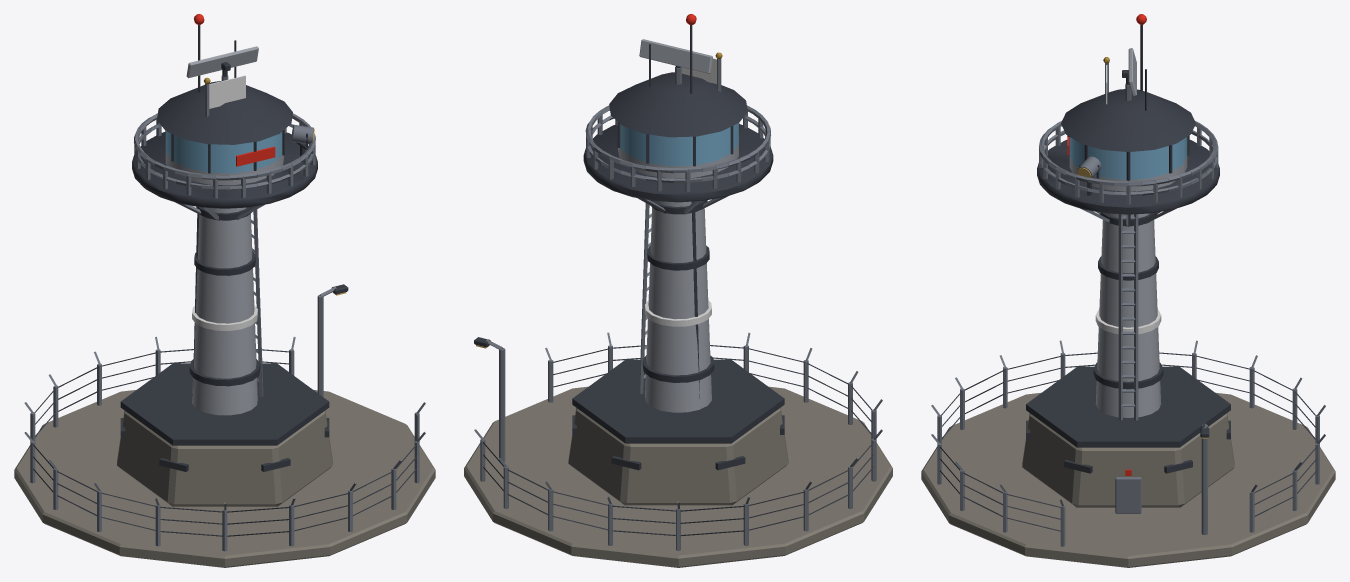
File: guard_tower.fbx
3 views of the same model, side by side, from view 1: azimuth 30°, elevation 25°; view 2: azimuth 150°, elevation 25°; view 3: azimuth 270°, elevation 25° (orthographic). The views are drawn at different scales.
Parts seen in each view (by area): view 1: guard_tower, guard_tower__radar; view 2: guard_tower, guard_tower__radar; view 3: guard_tower.
Part boxes in pixels (x1,y1,x2,y2): guard_tower: (14,14,435,567); guard_tower__radar: (186,46,258,78); guard_tower: (464,14,892,567); guard_tower__radar: (639,39,712,73); guard_tower: (921,14,1335,567).
Bounding box in the file's own units: 1.9 × 2.32 × 1.9.
